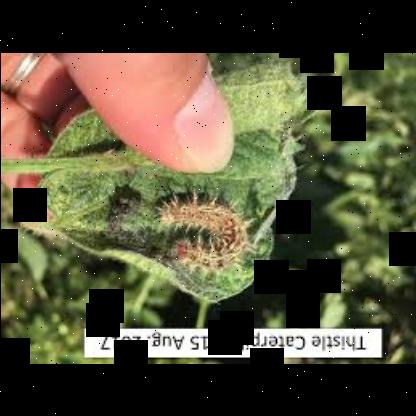oruga: (152, 188, 254, 278)
